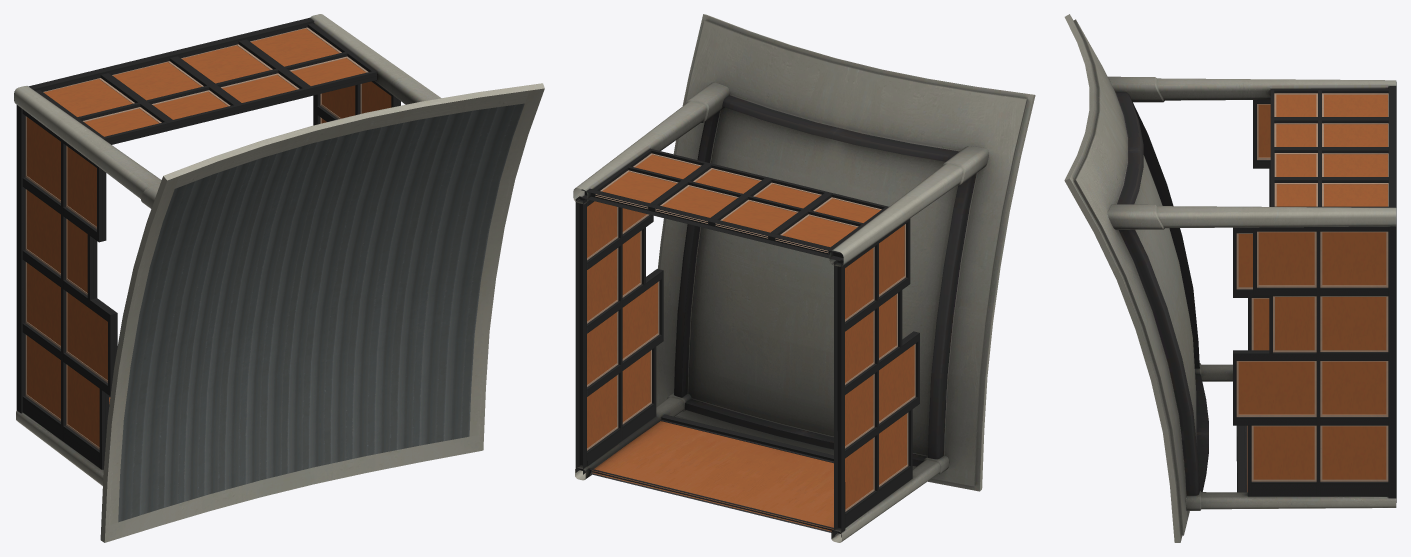
The model's file is nt_hydro_shed_LOD0.obj.
3 renders of one model, left to right at view 1: azimuth 30°, elevation 25°; view 2: azimuth 150°, elevation 25°; view 3: azimuth 270°, elevation 25°, orthographic. The views are drawn at different scales.
Parts seen in each view (by area): view 1: metal_corrugated_wide_bars, mtl_nt_hydro_shed, nt_2020_wall_sm_orange_ext, com_metal_chrome_trim, metal_copper_bronze_fine_editor; view 2: mtl_nt_hydro_shed, nt_2020_wall_sm_orange_ext, com_metal_chrome_trim, metal_copper_bronze_fine_editor; view 3: mtl_nt_hydro_shed, nt_2020_wall_sm_orange_ext, com_metal_chrome_trim, metal_copper_bronze_fine_editor.
Boxes of the visible parts, left/top/right/bottom form: metal_corrugated_wide_bars: left=118, top=103, right=524, bottom=522; mtl_nt_hydro_shed: left=14, top=14, right=544, bottom=542; nt_2020_wall_sm_orange_ext: left=27, top=28, right=391, bottom=447; com_metal_chrome_trim: left=16, top=17, right=400, bottom=469; metal_copper_bronze_fine_editor: left=25, top=27, right=368, bottom=449; mtl_nt_hydro_shed: left=573, top=14, right=1035, bottom=542; nt_2020_wall_sm_orange_ext: left=587, top=154, right=914, bottom=509; com_metal_chrome_trim: left=575, top=148, right=919, bottom=537; metal_copper_bronze_fine_editor: left=587, top=153, right=915, bottom=511; mtl_nt_hydro_shed: left=1064, top=14, right=1396, bottom=542; nt_2020_wall_sm_orange_ext: left=1238, top=94, right=1387, bottom=479; com_metal_chrome_trim: left=1233, top=82, right=1396, bottom=502; metal_copper_bronze_fine_editor: left=1236, top=93, right=1388, bottom=481.
Bounding box in the file's own units: 517 × 533 × 440.
